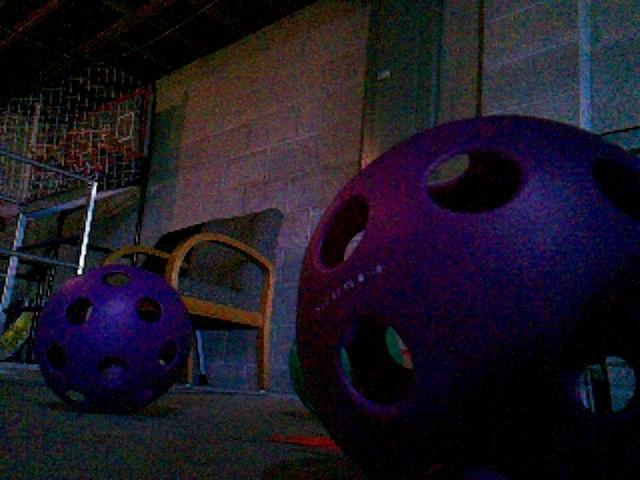Purple: (296, 115, 640, 480), (32, 265, 193, 414)
